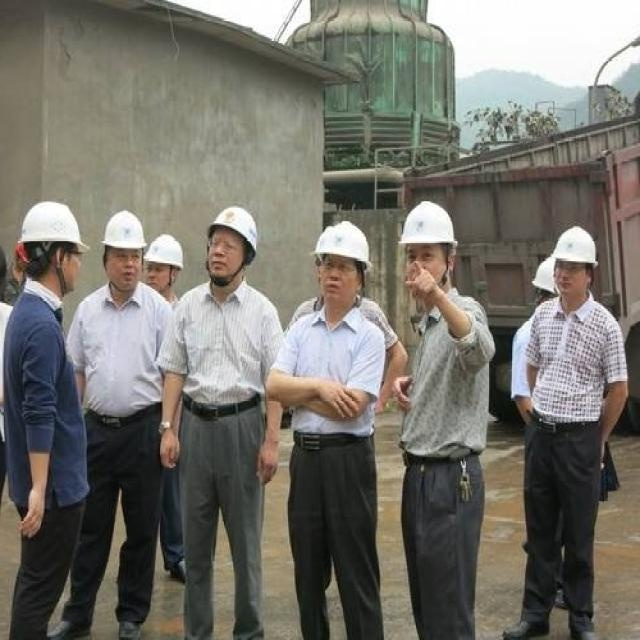Con_Casco: (399, 199, 458, 289), (317, 218, 371, 304), (207, 205, 260, 284)
